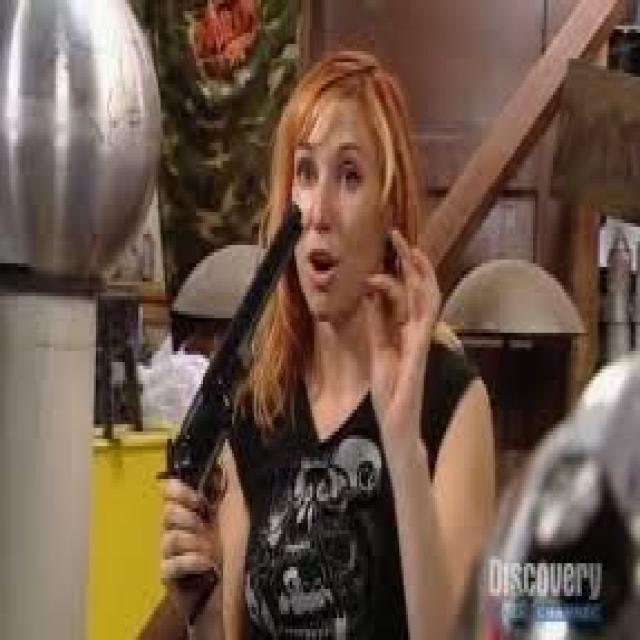gun: (126, 190, 313, 628)
